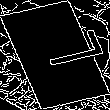L_W: (16, 32, 94, 78)
